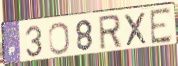3: (24, 24, 44, 59)
8: (75, 19, 95, 53)
E: (148, 6, 173, 47)
O: (48, 21, 72, 56)
R: (97, 13, 123, 53)
X: (122, 11, 149, 48)
